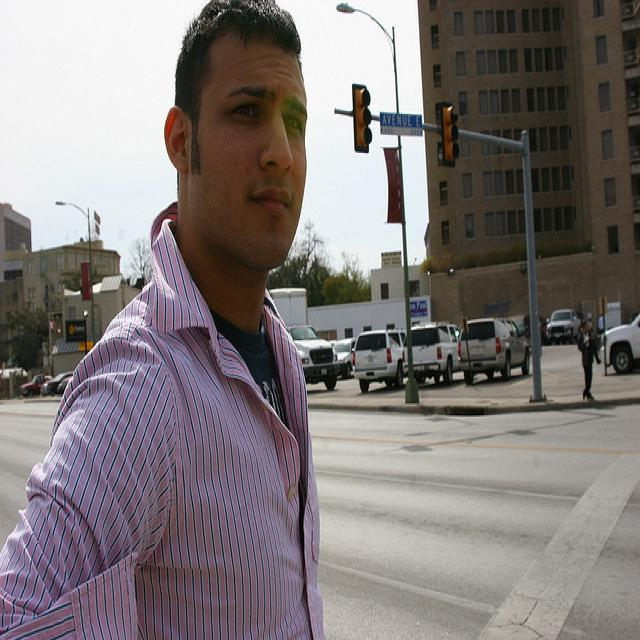Vehicle: (269, 286, 344, 391), (459, 314, 530, 384), (400, 318, 460, 384), (352, 328, 407, 395), (602, 309, 640, 377), (545, 308, 582, 346), (508, 315, 548, 348), (333, 338, 353, 384), (20, 373, 52, 397), (44, 371, 74, 396), (38, 373, 55, 397), (57, 376, 73, 396)
